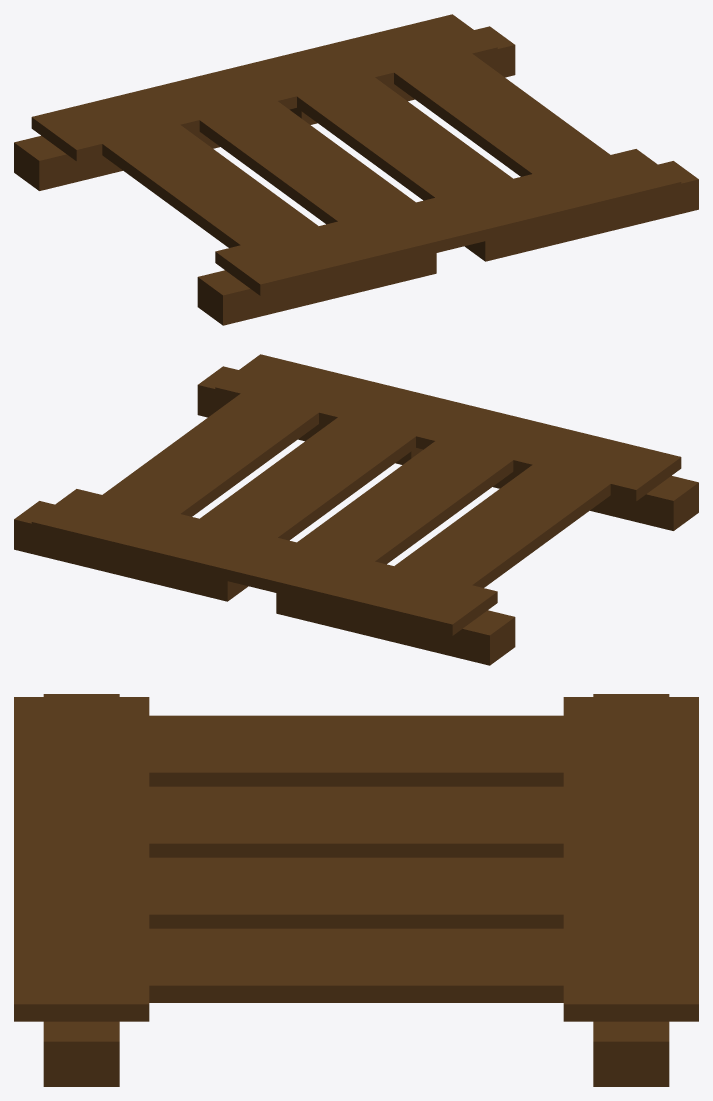
The model's file is Platform.fbx.
The picture shows the model from 3 angles, top to bottom: view 1: azimuth 30°, elevation 25°; view 2: azimuth 150°, elevation 25°; view 3: azimuth 270°, elevation 25°; orthographic projection. The views are drawn at different scales.
Visible parts, largest first — view 1: Cube; view 2: Cube; view 3: Cube.
Part boxes in pixels (x1=…): Cube: x1=14, y1=14, x2=698, y2=325; Cube: x1=14, y1=354, x2=698, y2=665; Cube: x1=14, y1=694, x2=698, y2=1086.
Bounding box in the file's own units: 477 × 39.96 × 397.
